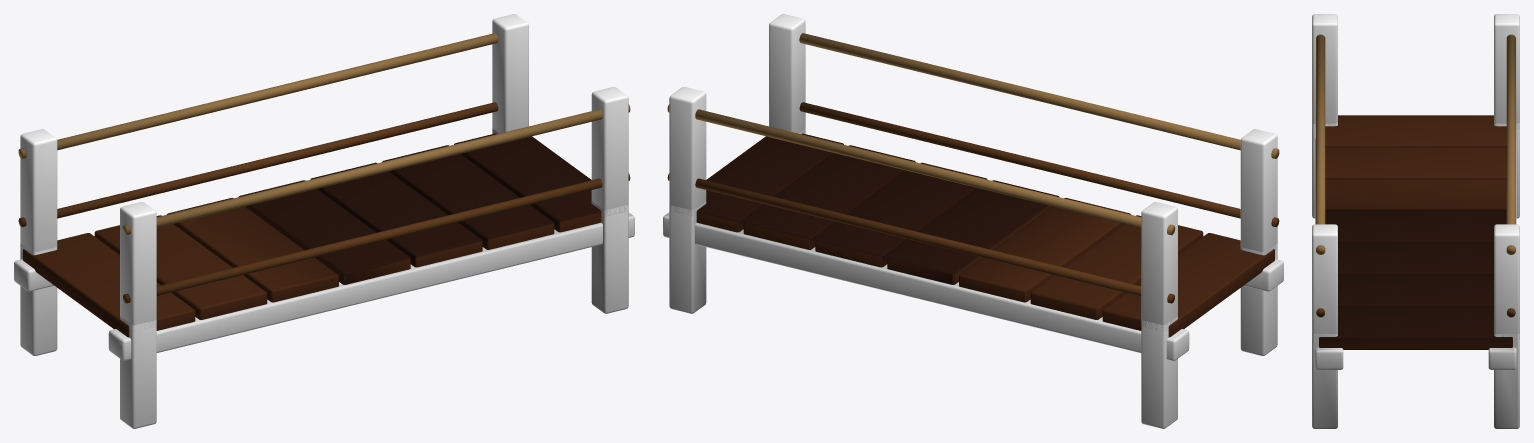
Rendered from wooden-bridge.obj.
3 renders of one model, left to right at view 1: azimuth 30°, elevation 25°; view 2: azimuth 150°, elevation 25°; view 3: azimuth 270°, elevation 25°, orthographic. The views are drawn at different scales.
Parts seen in each view (by area): view 1: wooden-bridge; view 2: wooden-bridge; view 3: wooden-bridge.
Part boxes in pixels (box(x1,y1,x2,y2)): wooden-bridge: box(14, 14, 634, 428); wooden-bridge: box(663, 14, 1283, 428); wooden-bridge: box(1312, 14, 1519, 428).
Bounding box in the file's own units: 2.5 × 0.995 × 0.96.
